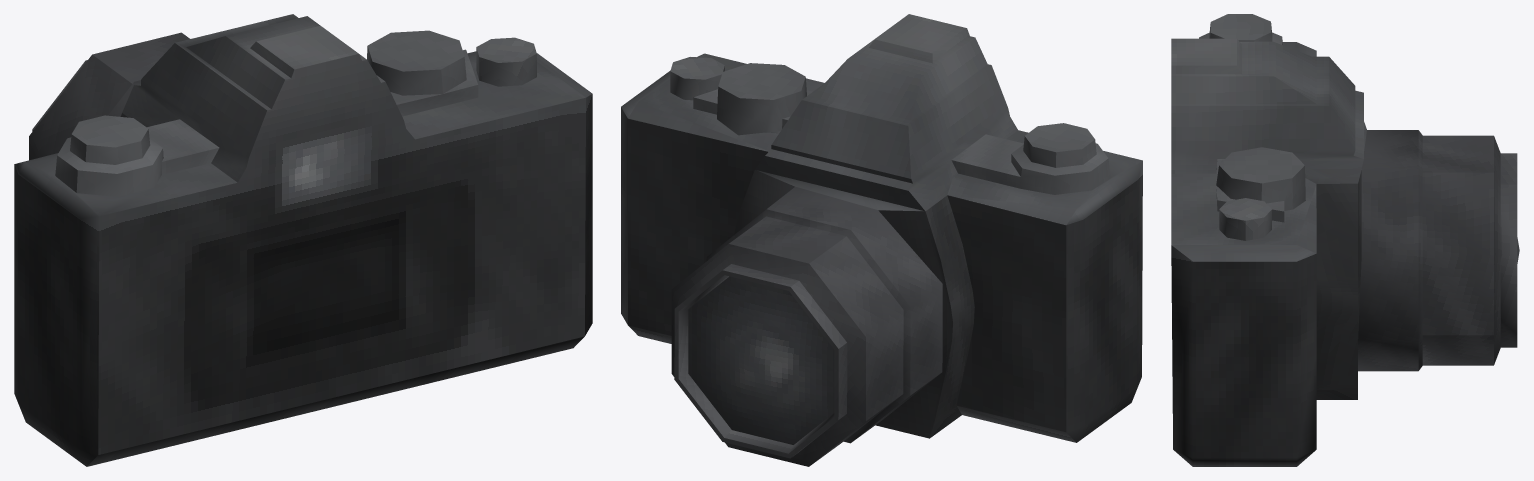
Rendered from camera.glb.
3 renders of one model, left to right at view 1: azimuth 30°, elevation 25°; view 2: azimuth 150°, elevation 25°; view 3: azimuth 270°, elevation 25°, orthographic. The views are drawn at different scales.
Visible parts, largest first — view 1: M_Camera; view 2: M_Camera; view 3: M_Camera.
Boxes of the visible parts, x1,y1,x2,y2 form: M_Camera: [14, 14, 592, 466]; M_Camera: [621, 14, 1142, 466]; M_Camera: [1171, 14, 1519, 466].
Bounding box in the file's own units: 2.97 × 1.99 × 2.05.
Materials: 1 (1 with a texture image).
